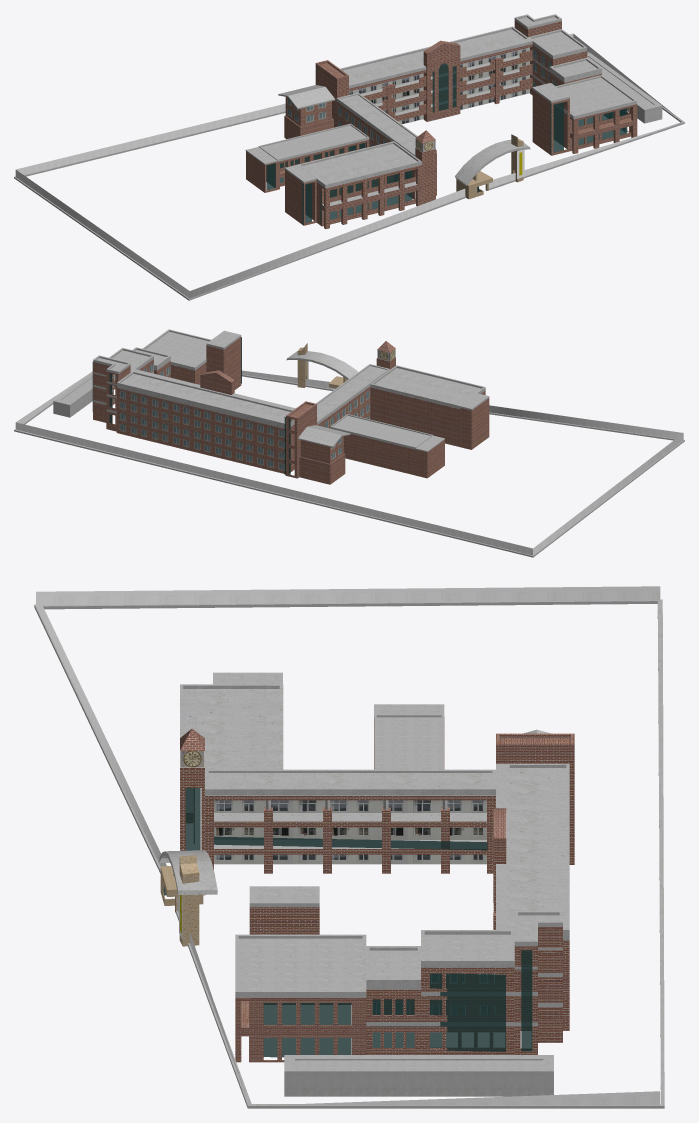
The model's file is Schoool.FBX.
3 views of the same model, one above another, from view 1: azimuth 30°, elevation 25°; view 2: azimuth 150°, elevation 25°; view 3: azimuth 270°, elevation 25° (orthographic). The views are drawn at different scales.
Visible parts, largest first — view 1: Object22780, wall, Object22748, Object22740, Object22813, Object22744, Object22786, Box019, Object22787; view 2: Object22780, wall, Object22813, Object22748, Box019, Object22740; view 3: Object22780, wall, Object22748, Object22740, Object22788, Object22813, Box019.
Boxes of the visible parts, x1,y1,x2,y2 form: Object22780: [14, 14, 684, 300]; wall: [246, 20, 637, 228]; Object22748: [15, 33, 677, 298]; Object22740: [266, 63, 627, 223]; Object22813: [285, 45, 564, 199]; Object22744: [363, 55, 532, 120]; Object22786: [349, 47, 529, 124]; Box019: [456, 134, 523, 199]; Object22787: [349, 44, 532, 91]; Object22780: [14, 329, 684, 557]; wall: [93, 337, 489, 484]; Object22813: [117, 359, 370, 473]; Object22748: [15, 370, 683, 555]; Box019: [297, 343, 347, 388]; Object22740: [92, 337, 290, 475]; Object22780: [34, 599, 664, 1108]; wall: [180, 718, 574, 1062]; Object22748: [36, 586, 660, 1105]; Object22740: [163, 788, 532, 1057]; Object22788: [214, 800, 486, 864]; Object22813: [366, 967, 505, 1026]; Box019: [160, 855, 205, 946].
Size of the model in its own units: 172 by 90.7 by 22.05.
